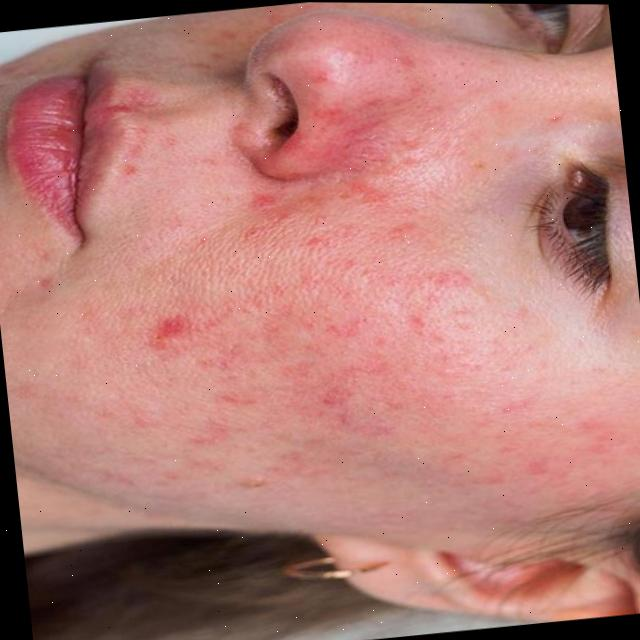Rosacea: (89, 53, 538, 518)
